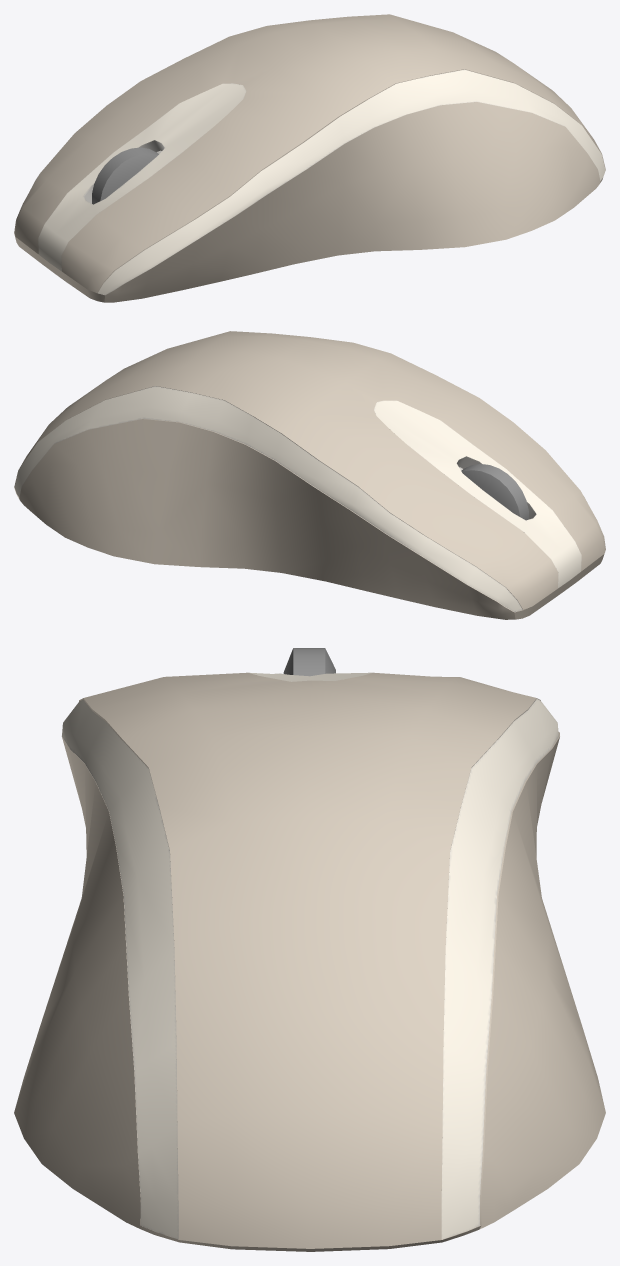
Rendered from SM_Mouse_A1.fbx.
3 renders of one model, top to bottom at view 1: azimuth 30°, elevation 25°; view 2: azimuth 150°, elevation 25°; view 3: azimuth 270°, elevation 25°, orthographic. The views are drawn at different scales.
Parts seen in each view (by area): view 1: SM_Mouse_A1; view 2: SM_Mouse_A1; view 3: SM_Mouse_A1.
Part boxes in pixels (x1,y1,x2,y2): SM_Mouse_A1: (14, 14, 605, 302); SM_Mouse_A1: (14, 331, 605, 619); SM_Mouse_A1: (14, 648, 605, 1251).
Size of the model in its own units: 10.29 by 5.31 by 2.98.
Materials: 1 (1 with a texture image).
